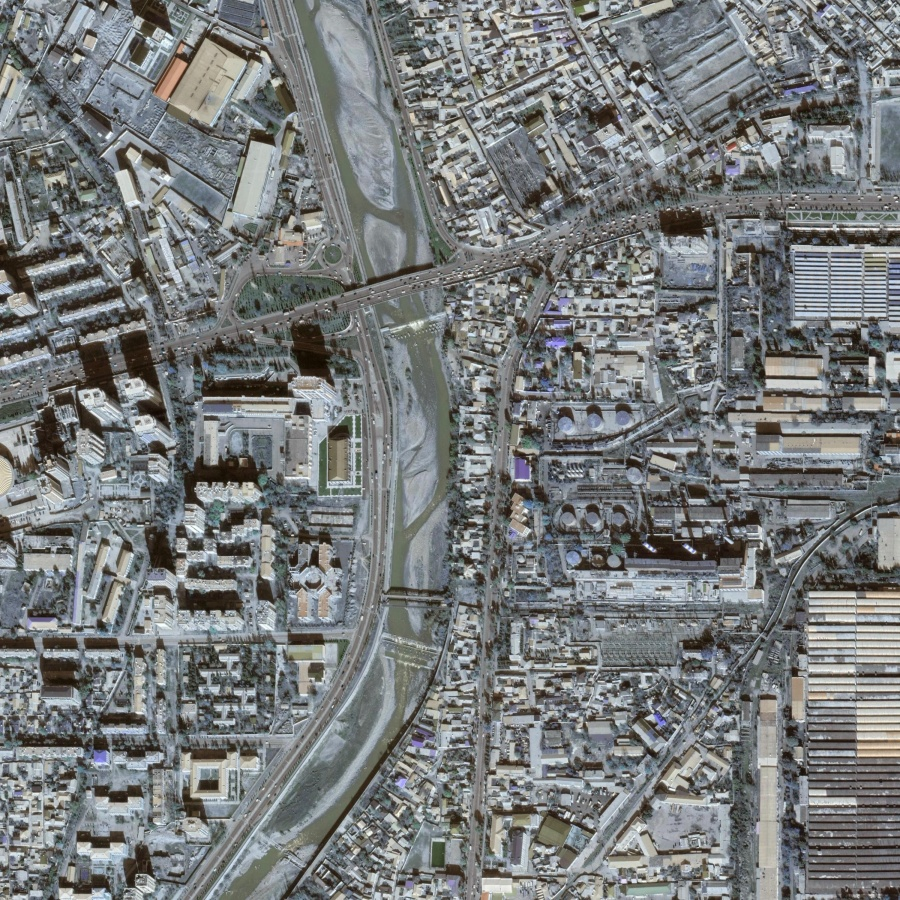PowerPlant: (548, 457, 769, 668)
